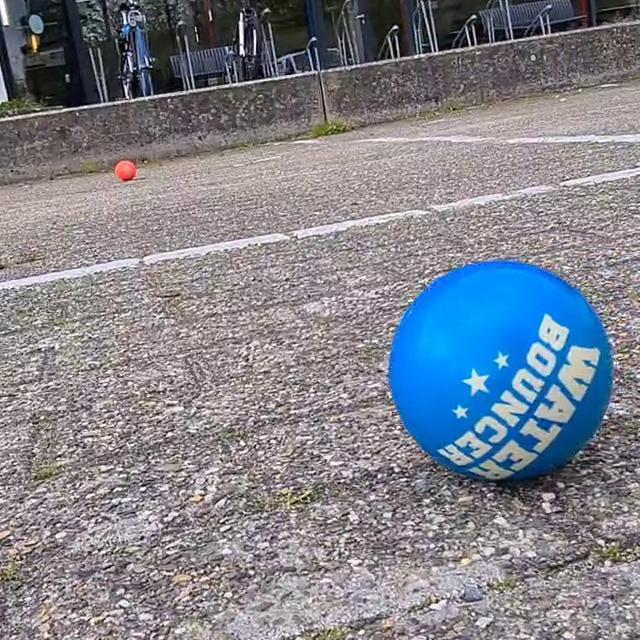ball: (112, 155, 138, 185)
